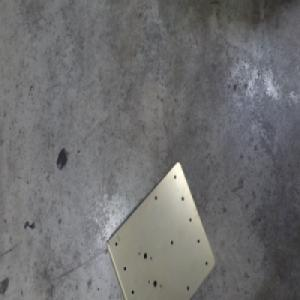MetalSheet: (104, 158, 216, 300)
